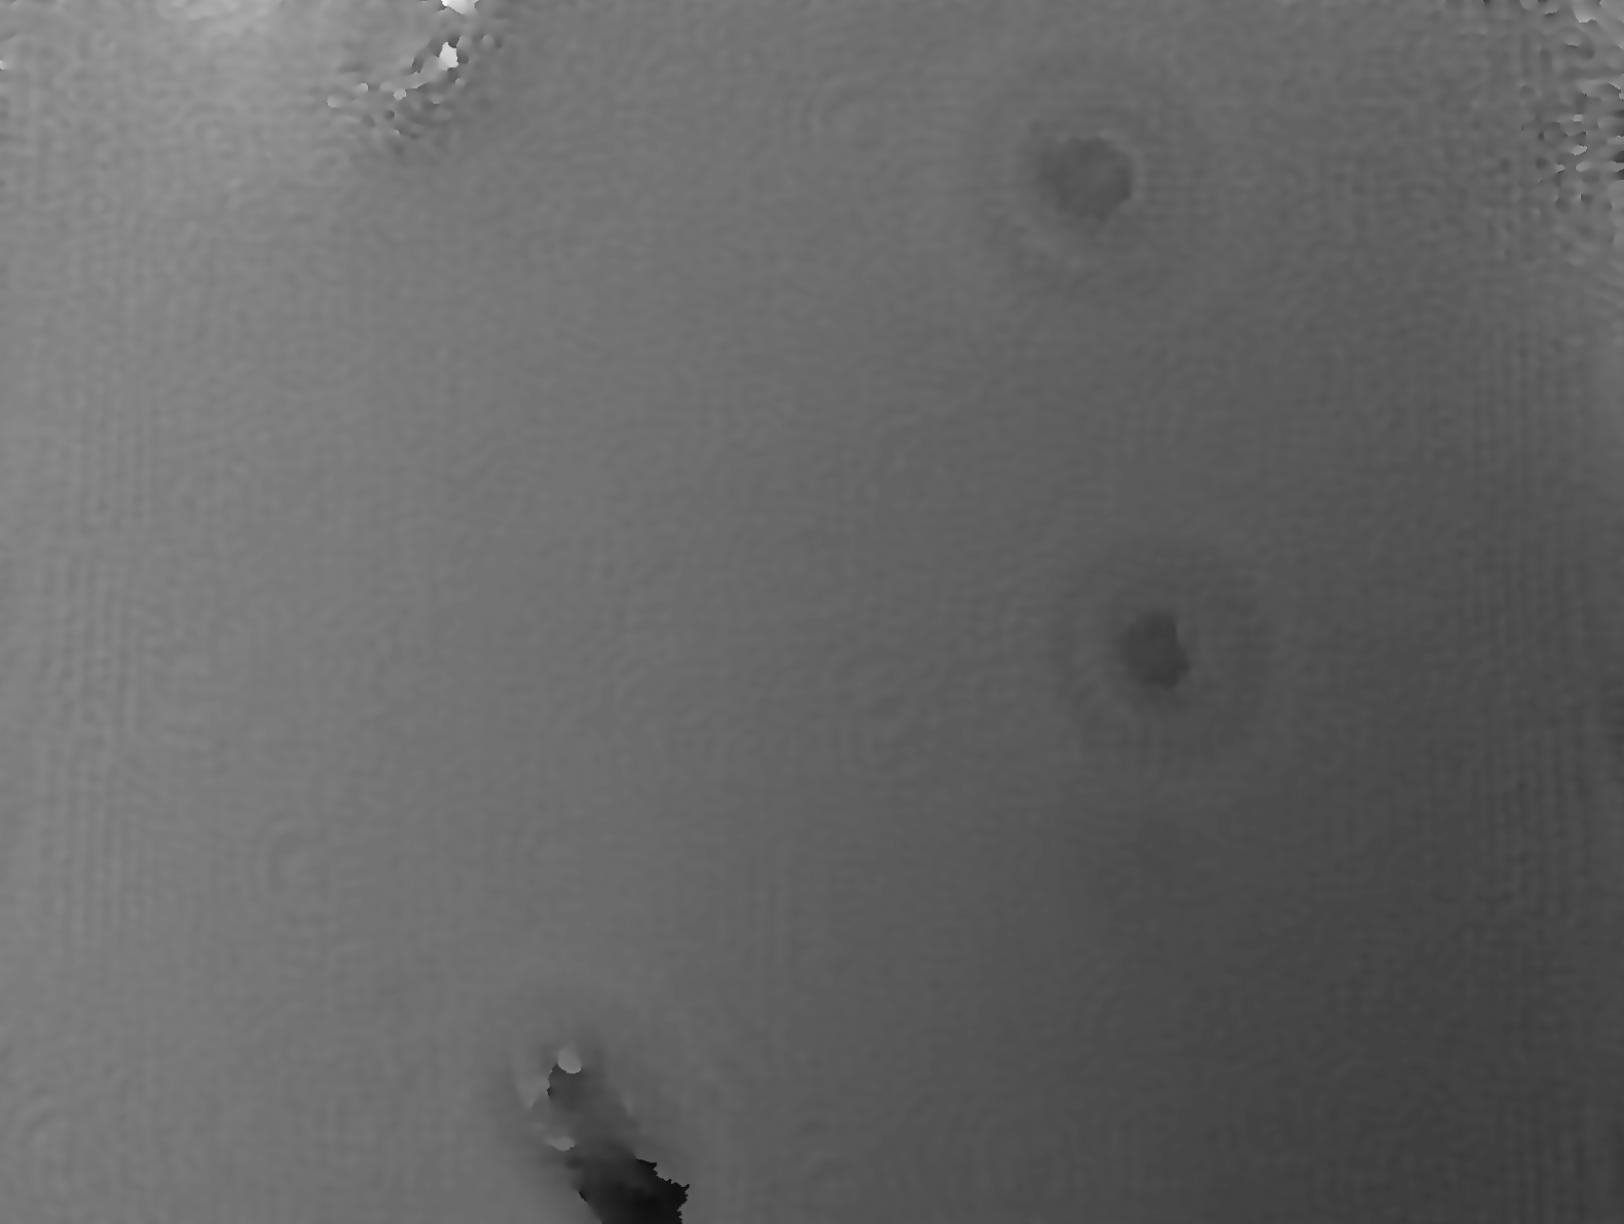cell: (1025, 507, 1309, 798), (952, 51, 1219, 332), (453, 957, 690, 1201)
